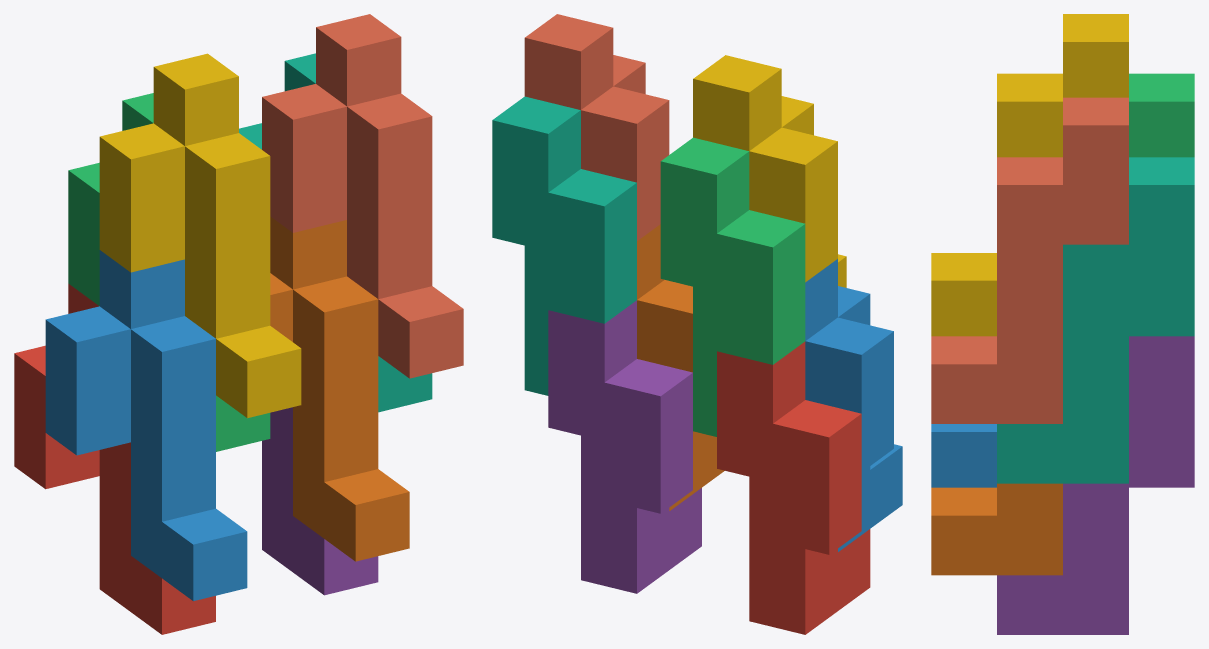
Rendered from tiling.obj.
The picture shows the model from 3 angles, left to right: view 1: azimuth 30°, elevation 25°; view 2: azimuth 150°, elevation 25°; view 3: azimuth 270°, elevation 25°; orthographic projection. The views are drawn at different scales.
Visible parts, largest first — view 1: copy_1_domain_4, copy_1_domain_2, copy_1_domain_8, copy_1_domain_6, copy_1_domain_1, copy_1_domain_5, copy_1_domain_3, copy_1_domain_7; view 2: copy_1_domain_1, copy_1_domain_5, copy_1_domain_3, copy_1_domain_7, copy_1_domain_4, copy_1_domain_8, copy_1_domain_2, copy_1_domain_6; view 3: copy_1_domain_8, copy_1_domain_7, copy_1_domain_5, copy_1_domain_4, copy_1_domain_6, copy_1_domain_3, copy_1_domain_2.
Boxes of the visible parts, x1,y1,x2,y2 form: copy_1_domain_4: (99, 53, 301, 418); copy_1_domain_2: (45, 250, 247, 601); copy_1_domain_8: (262, 14, 463, 378); copy_1_domain_6: (270, 216, 409, 561); copy_1_domain_1: (14, 283, 215, 634); copy_1_domain_5: (262, 407, 378, 595); copy_1_domain_3: (68, 93, 270, 451); copy_1_domain_7: (239, 53, 432, 412); copy_1_domain_1: (717, 341, 870, 634); copy_1_domain_5: (548, 300, 701, 593); copy_1_domain_3: (660, 137, 805, 436); copy_1_domain_7: (492, 96, 636, 395); copy_1_domain_4: (693, 55, 846, 287); copy_1_domain_8: (524, 14, 669, 240); copy_1_domain_2: (805, 259, 902, 551); copy_1_domain_6: (637, 224, 724, 510); copy_1_domain_8: (931, 97, 1128, 423); copy_1_domain_7: (997, 157, 1194, 483); copy_1_domain_5: (997, 336, 1194, 634); copy_1_domain_4: (931, 14, 1128, 336); copy_1_domain_6: (931, 483, 1062, 575); copy_1_domain_3: (1129, 73, 1194, 157); copy_1_domain_2: (931, 424, 996, 487).
Size of the model in its own units: 6 by 9 by 4.
